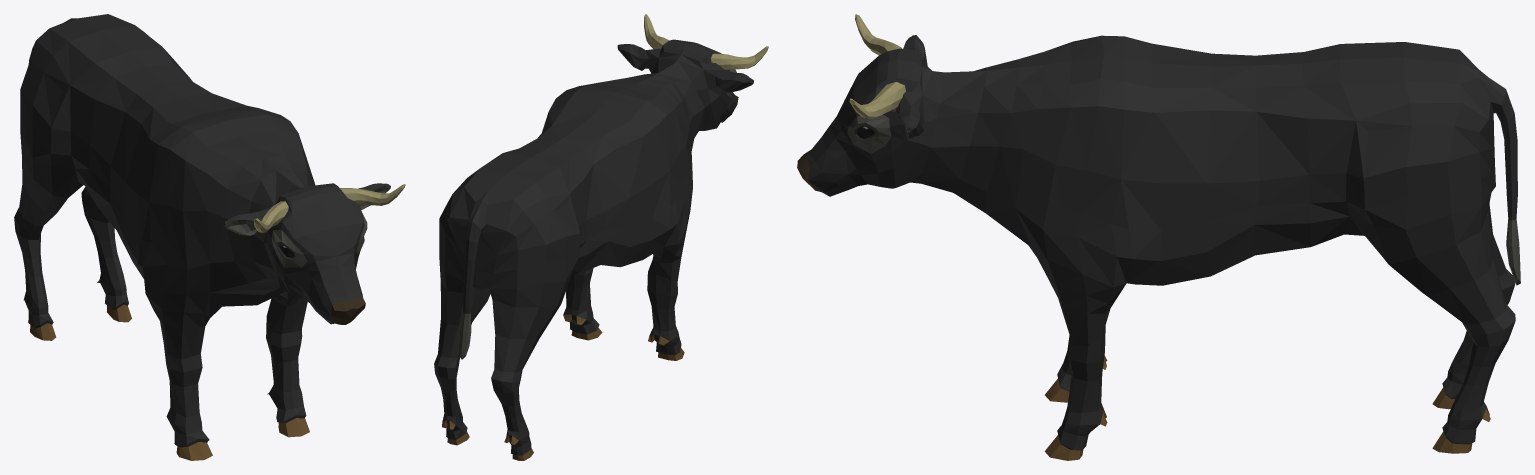
File: bull.glb
3 renders of one model, left to right at view 1: azimuth 30°, elevation 25°; view 2: azimuth 150°, elevation 25°; view 3: azimuth 270°, elevation 25°, orthographic. The views are drawn at different scales.
Parts seen in each view (by area): view 1: bull; view 2: bull; view 3: bull.
Boxes of the visible parts, left/top/right/bottom form: bull: left=14, top=14, right=405, bottom=460; bull: left=434, top=14, right=768, bottom=460; bull: left=797, top=14, right=1520, bottom=460.
Size of the model in its own units: 0.3108 by 0.5672 by 1.
